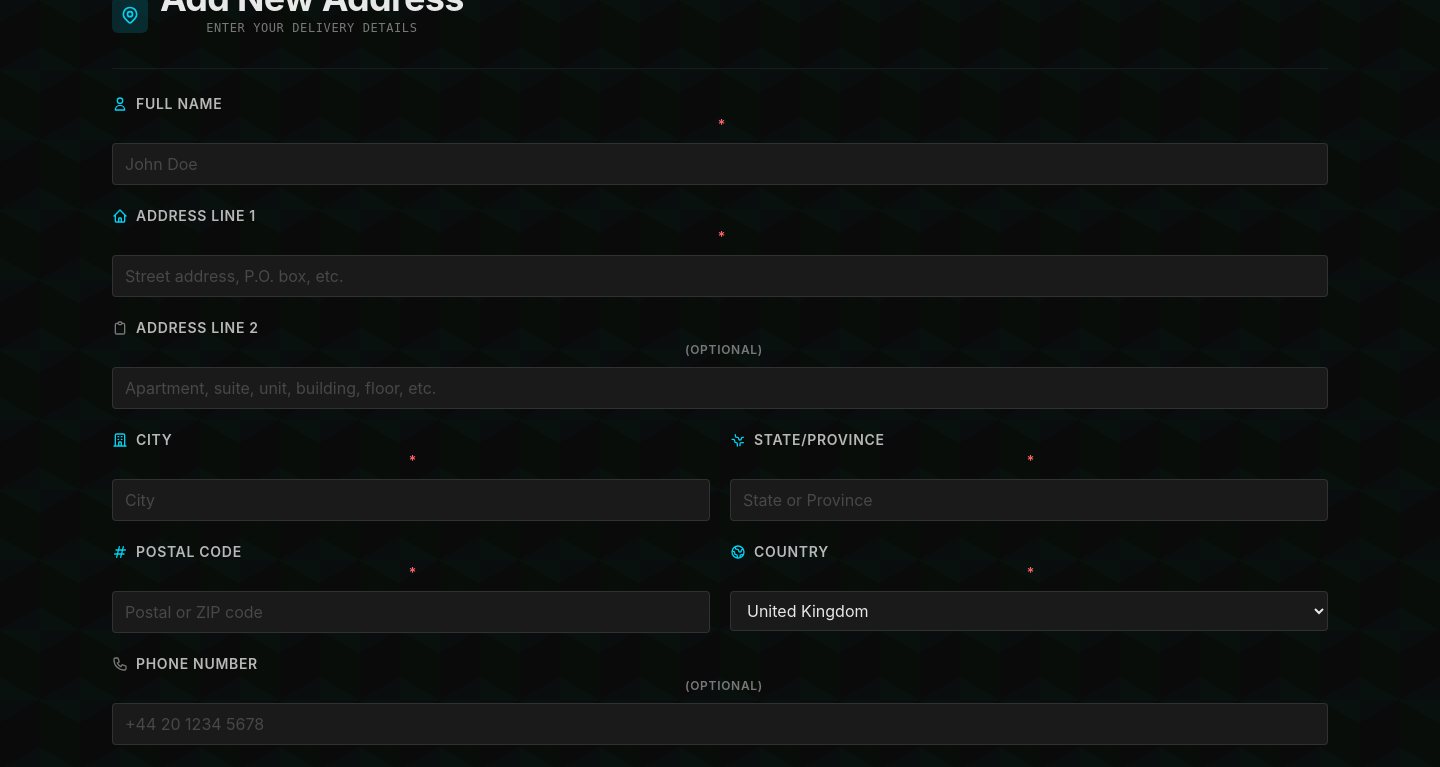
Test: AddressForm › Form Validation › should clear field errors when user starts typing
The image size is (1440, 767).
(page scrolled)
Trigger validation errors via form submit
Submit the form
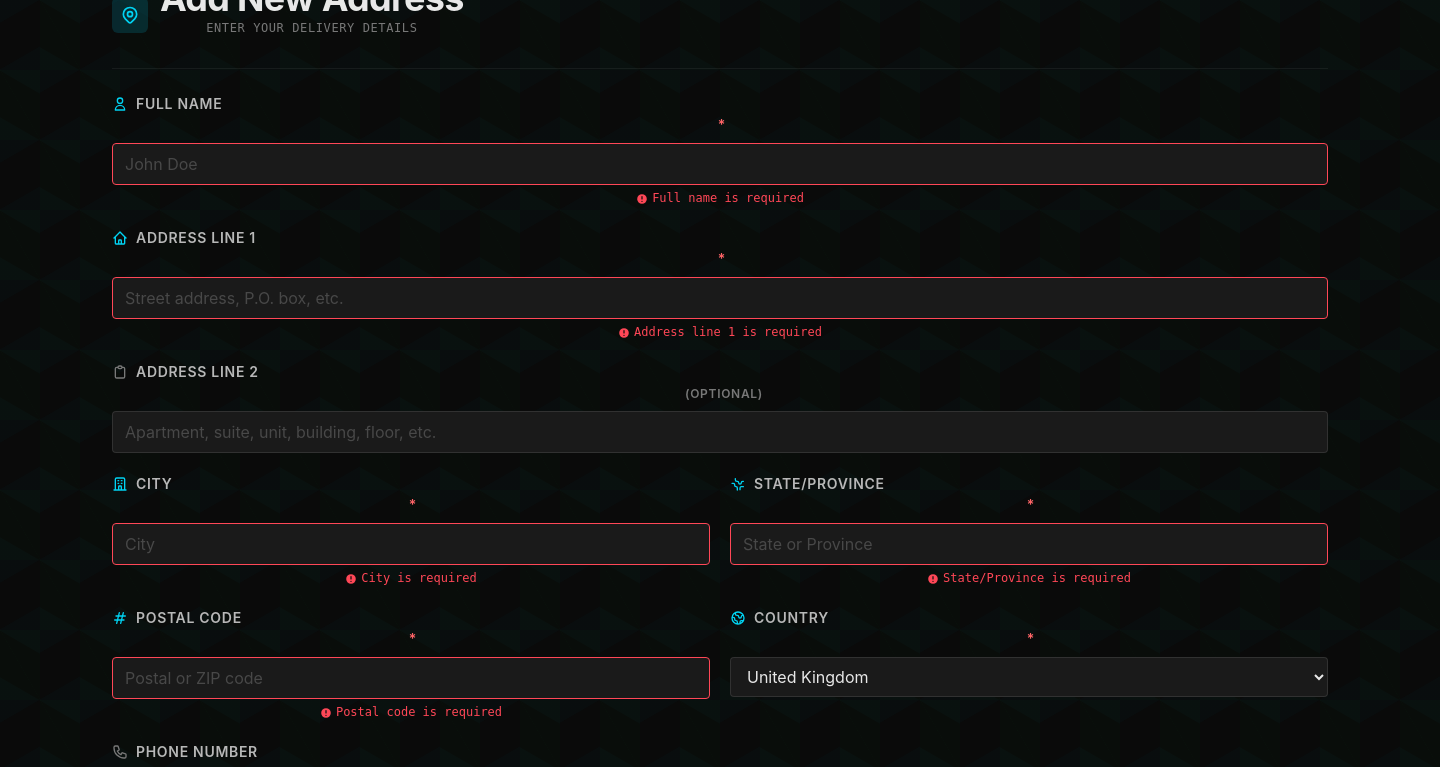
Now the text "Full name is required" is shown, box [636,191,804,205]
Start typing in the field
Type "John" into the field labelled "Full Name *" at (720, 164), box [112,143,1328,185]
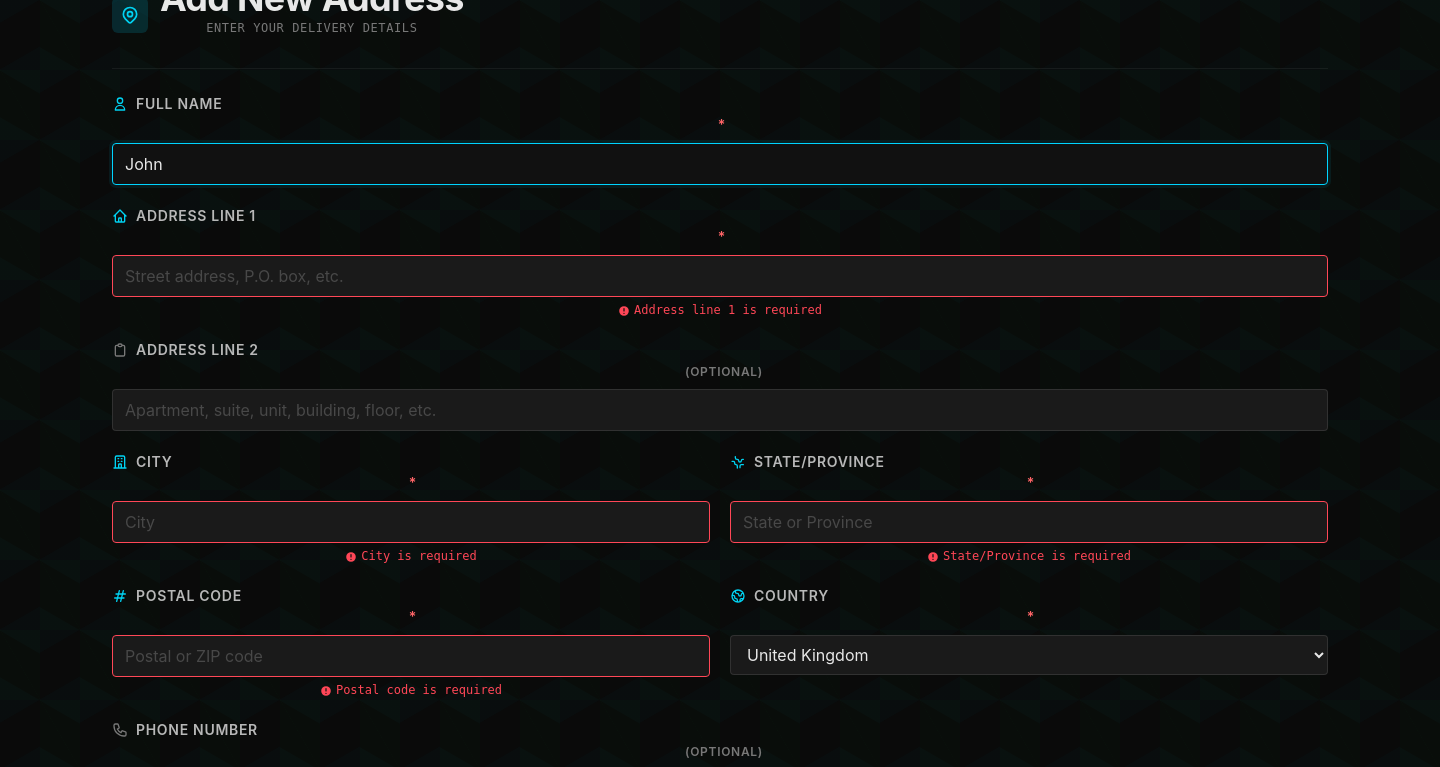
Now the text "Full name is required" is gone
